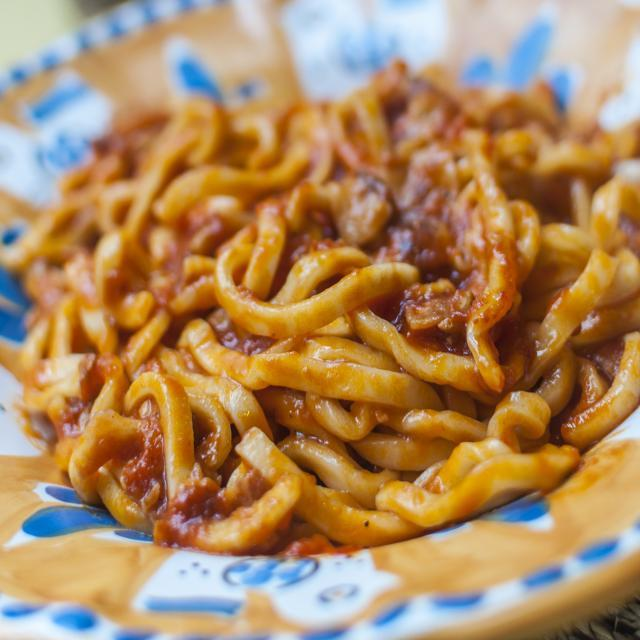Pasta al ragu: (26, 69, 636, 553)
